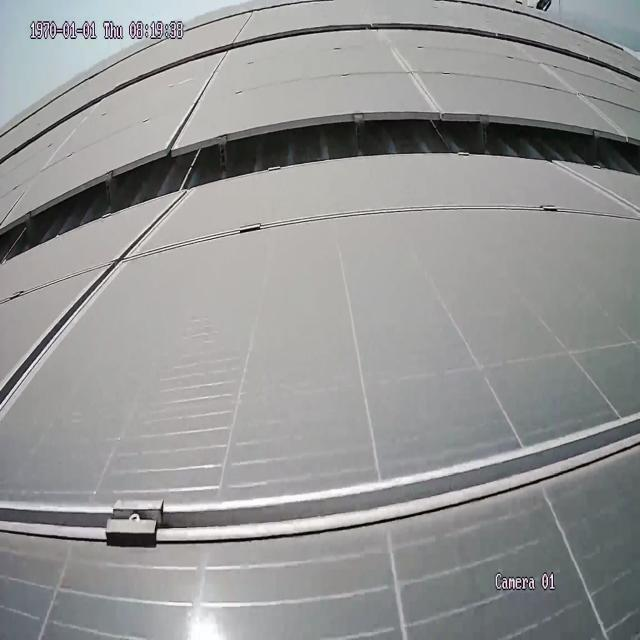interior panel: (0, 410, 634, 558), (0, 199, 183, 414), (169, 56, 224, 140), (382, 39, 441, 104)
outher panel: (4, 110, 635, 263)
